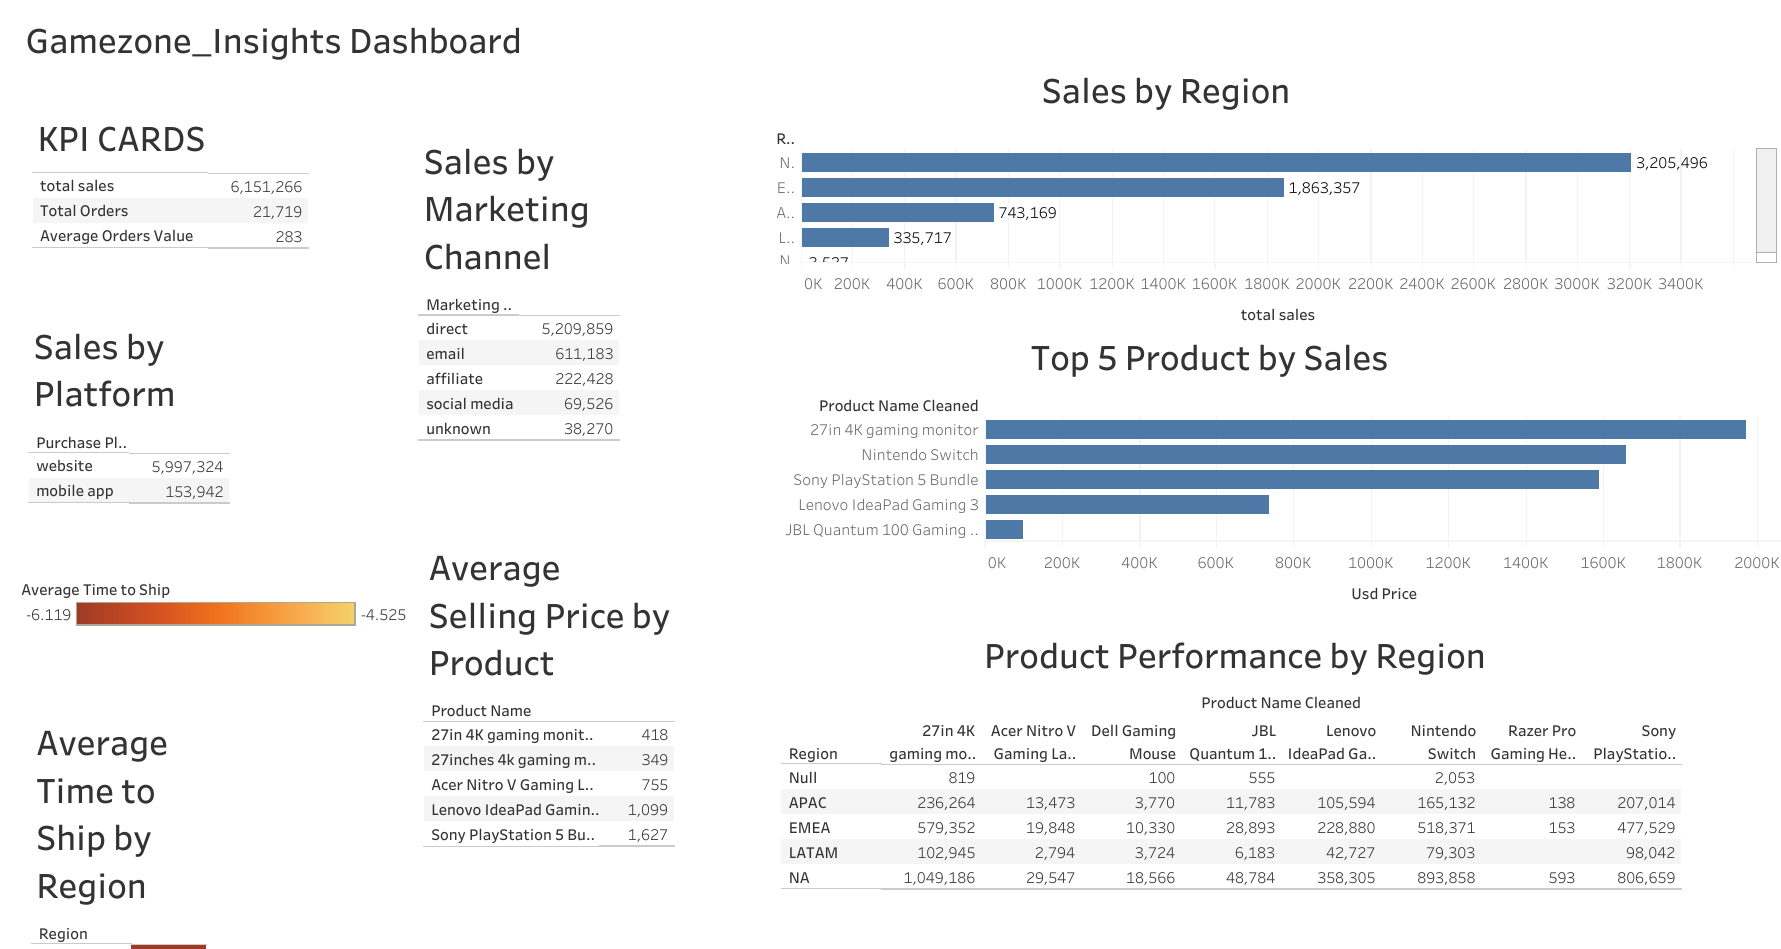

What the dashboard file says about the page in this screenshot:
{"tool":"tableau","page":{"name":"Dashboard 1","canvas":[1000,1000],"units":"permille","ordinal":0},"visuals":[{"type":"title","box":[5.5,10.5,989,60.5]},{"type":"worksheet","title":"Sheet 2","mark":"Automatic","rows":["REGION"],"cols":["Calculation_996702919303421952"],"box":[435.2,60.5,562.1,290.8]},{"type":"worksheet","title":"Sheet 1","mark":"Automatic","box":[17.9,61.8,180,221.1]},{"type":"worksheet","title":"Sheet 4","mark":"Automatic","rows":["MARKETING_CHANNEL_CLEANED"],"box":[235.2,85.5,168.3,434.2]},{"type":"worksheet","title":"Sheet 5","mark":"Automatic","rows":["PURCHASE_PLATFORM"],"box":[15.9,280.3,166.9,296.1]},{"type":"worksheet","title":"Sheet 6","mark":"Automatic","rows":["PRODUCT_NAME_CLEANED"],"cols":["USD_PRICE"],"box":[440.7,342.1,560,303.9]},{"type":"worksheet","title":"Sheet 7","mark":"Automatic","rows":["PRODUCT_NAME"],"box":[237.9,513.2,149.7,490.8]},{"type":"legend","title":"Sheet 3","param":"[federated.0ur207d1ul9klt1gfpn6z17q9v63].[usr:Calculation_996702919312240643:qk]","box":[11.7,602.6,220,77.6]}]}

Visuals, with their boxes on the dashboard's canvas, which has no fixed pixel size, in thousandths of its width and height (x1, y1, x2, y2). These are canvas units, not pixel positions in the 1781x949 screenshot, which may show the page scaled, cropped or inside an application window:
title: x1=6, y1=10, x2=994, y2=71
"Sheet 2" worksheet: x1=435, y1=60, x2=997, y2=351
"Sheet 1" worksheet: x1=18, y1=62, x2=198, y2=283
"Sheet 4" worksheet: x1=235, y1=86, x2=404, y2=520
"Sheet 5" worksheet: x1=16, y1=280, x2=183, y2=576
"Sheet 6" worksheet: x1=441, y1=342, x2=1001, y2=646
"Sheet 7" worksheet: x1=238, y1=513, x2=388, y2=1004
"Sheet 3" legend: x1=12, y1=603, x2=232, y2=680
